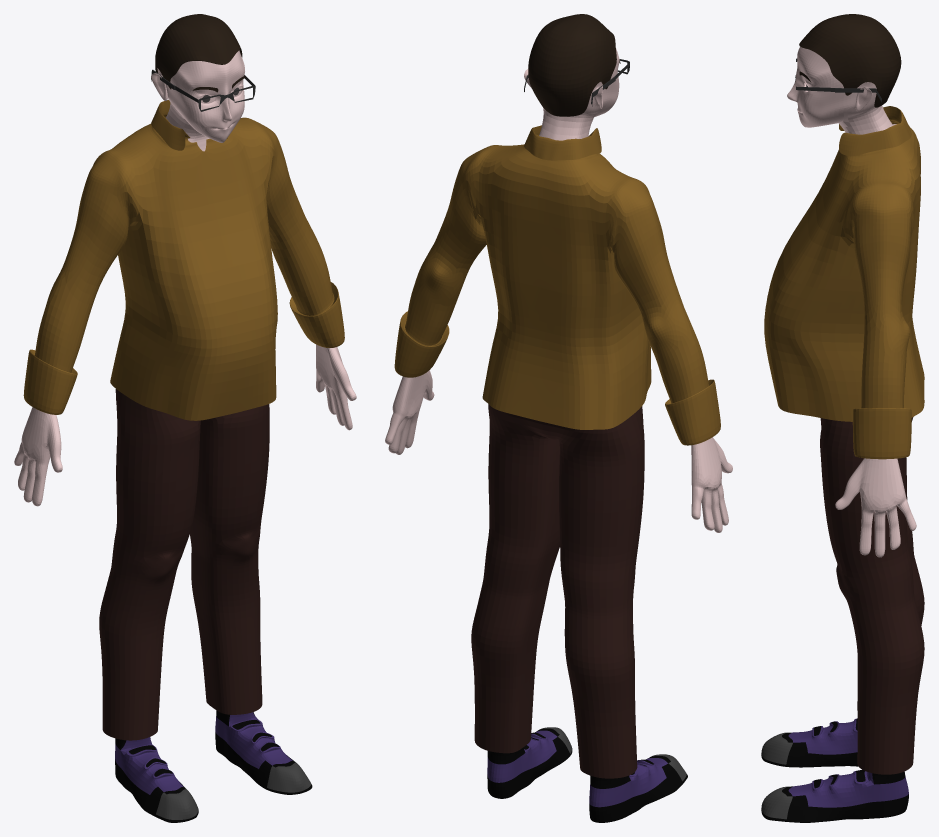
File: andrzej.fbx
3 renders of one model, left to right at view 1: azimuth 30°, elevation 25°; view 2: azimuth 150°, elevation 25°; view 3: azimuth 270°, elevation 25°, orthographic.
Visible parts, largest first — view 1: ShirtCLOSED, Pants, Body, Shoes, Hair_andrew; view 2: ShirtCLOSED, Pants, Shoes, Body, Hair_andrew; view 3: ShirtCLOSED, Pants, Shoes, Body, Hair_andrew, Cube.
Boxes of the visible parts, x1,y1,x2,y2 form: ShirtCLOSED: (23,100,344,420); Pants: (99,389,269,740); Body: (14,50,356,506); Shoes: (115,710,312,822); Hair_andrew: (155,14,242,89); ShirtCLOSED: (394,125,720,445); Pants: (471,404,644,778); Shoes: (487,727,687,822); Body: (385,47,732,532); Hair_andrew: (528,14,616,116); ShirtCLOSED: (764,106,924,459); Pants: (820,417,924,774); Shoes: (761,718,908,822); Body: (787,46,916,557); Hair_andrew: (799,14,901,107); Cube: (795,58,881,102).
Size of the model in its own units: 80.87 by 182 by 35.14.
